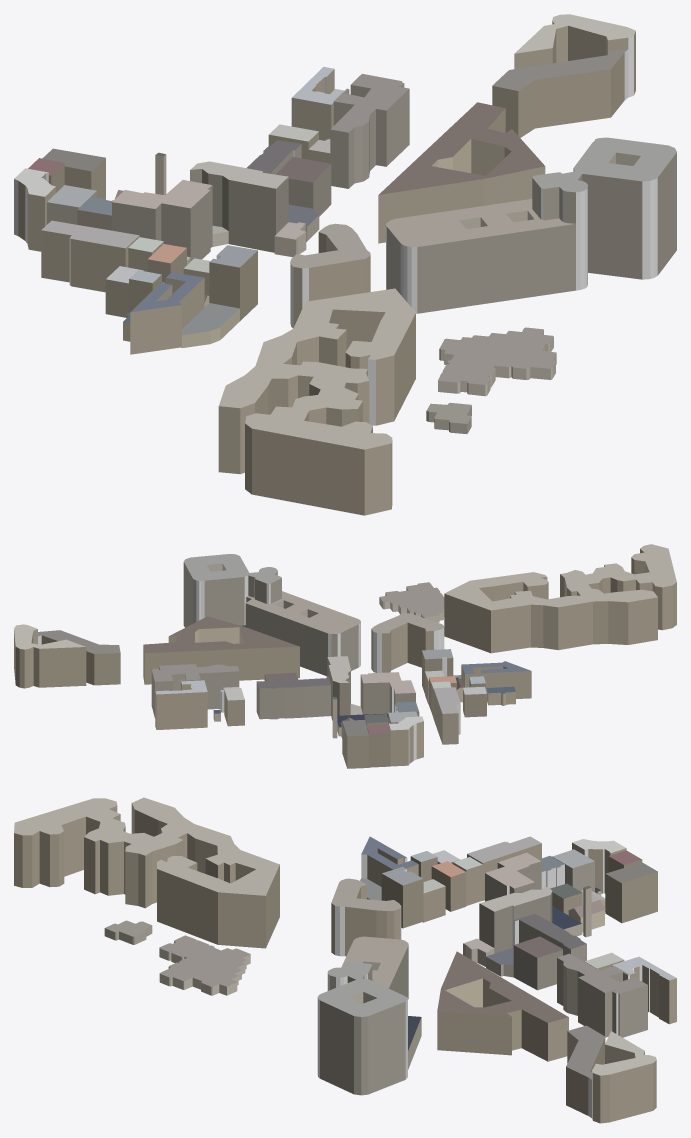
3 renders of one model, top to bottom at view 1: azimuth 30°, elevation 25°; view 2: azimuth 150°, elevation 25°; view 3: azimuth 270°, elevation 25°, orthographic. The views are drawn at different scales.
Parts seen in each view (by area): view 1: tuile; view 2: tuile; view 3: tuile.
Boxes of the visible parts, left/top/right/bottom form: tuile: left=14, top=14, right=676, bottom=515; tuile: left=14, top=544, right=676, bottom=768; tuile: left=14, top=797, right=676, bottom=1123.
Size of the model in its own units: 294 by 39.51 by 301.
